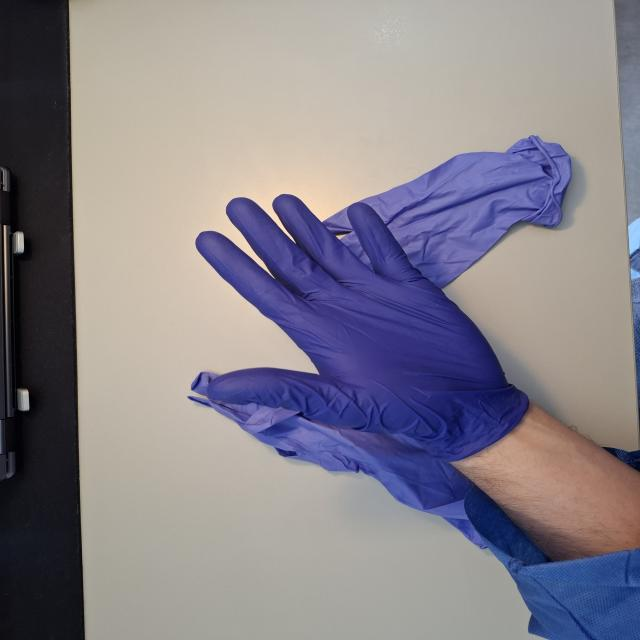glove_on: (192, 191, 518, 463)
